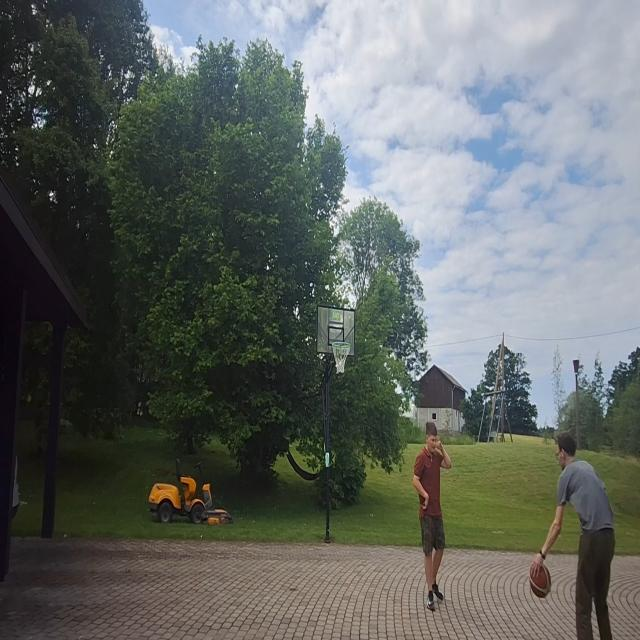ball: (528, 558, 552, 600)
basket: (332, 339, 352, 378)
player: (525, 430, 619, 640), (412, 419, 450, 611)
